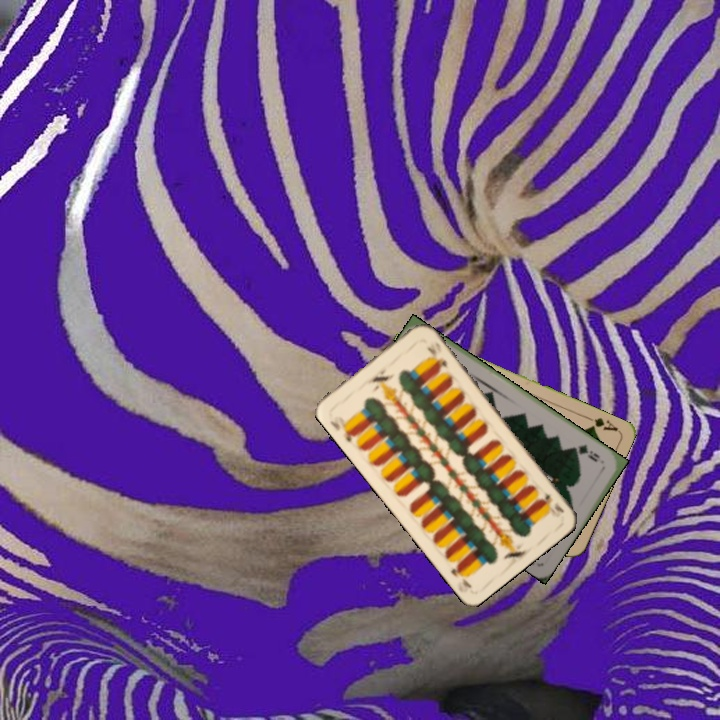E10: (326, 417, 359, 445), (540, 488, 567, 515)
G9: (569, 440, 602, 465)
GA: (582, 412, 620, 434)
